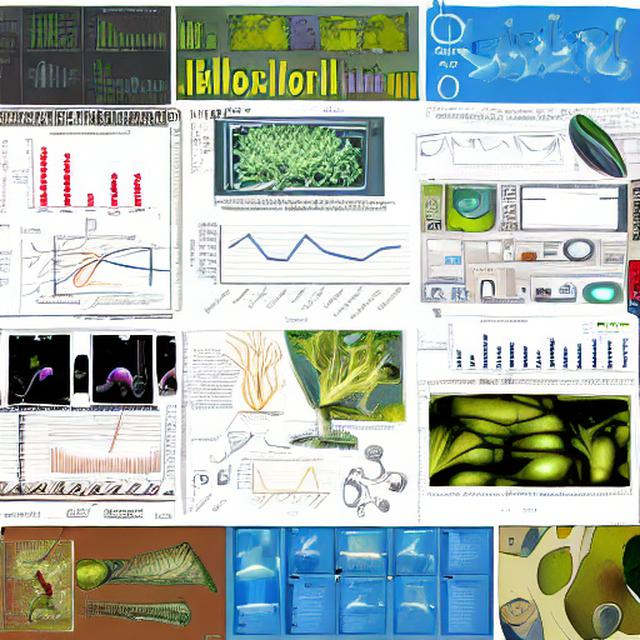Graph: (184, 197, 417, 326), (12, 129, 149, 224), (433, 319, 560, 377), (234, 456, 333, 516), (84, 6, 171, 57), (446, 132, 512, 172), (45, 438, 108, 479)
